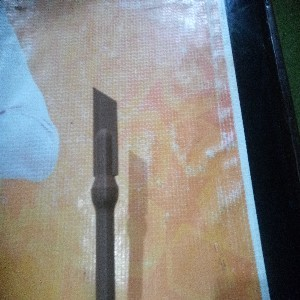cutter: (90, 86, 120, 300)
